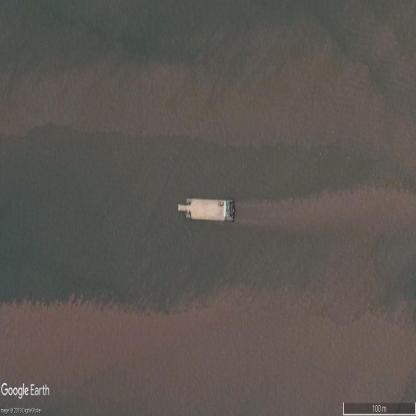ship: (178, 198, 235, 222)
